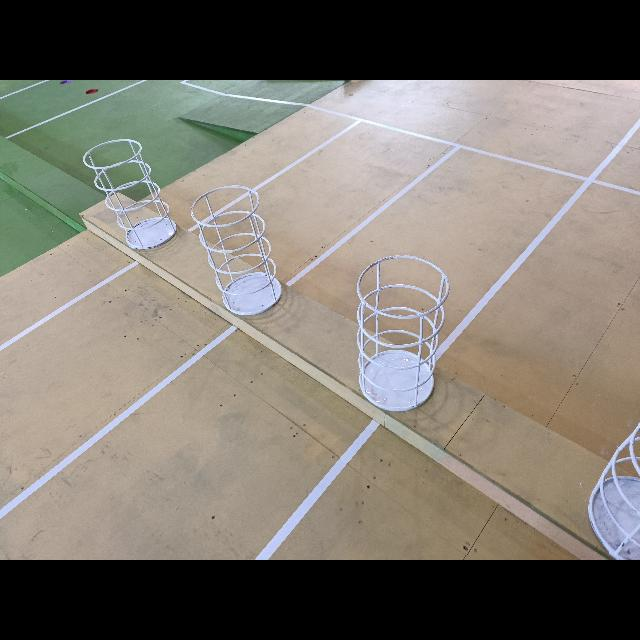S: (354, 255, 451, 414), (192, 187, 285, 318), (82, 139, 179, 249), (586, 423, 640, 560)
